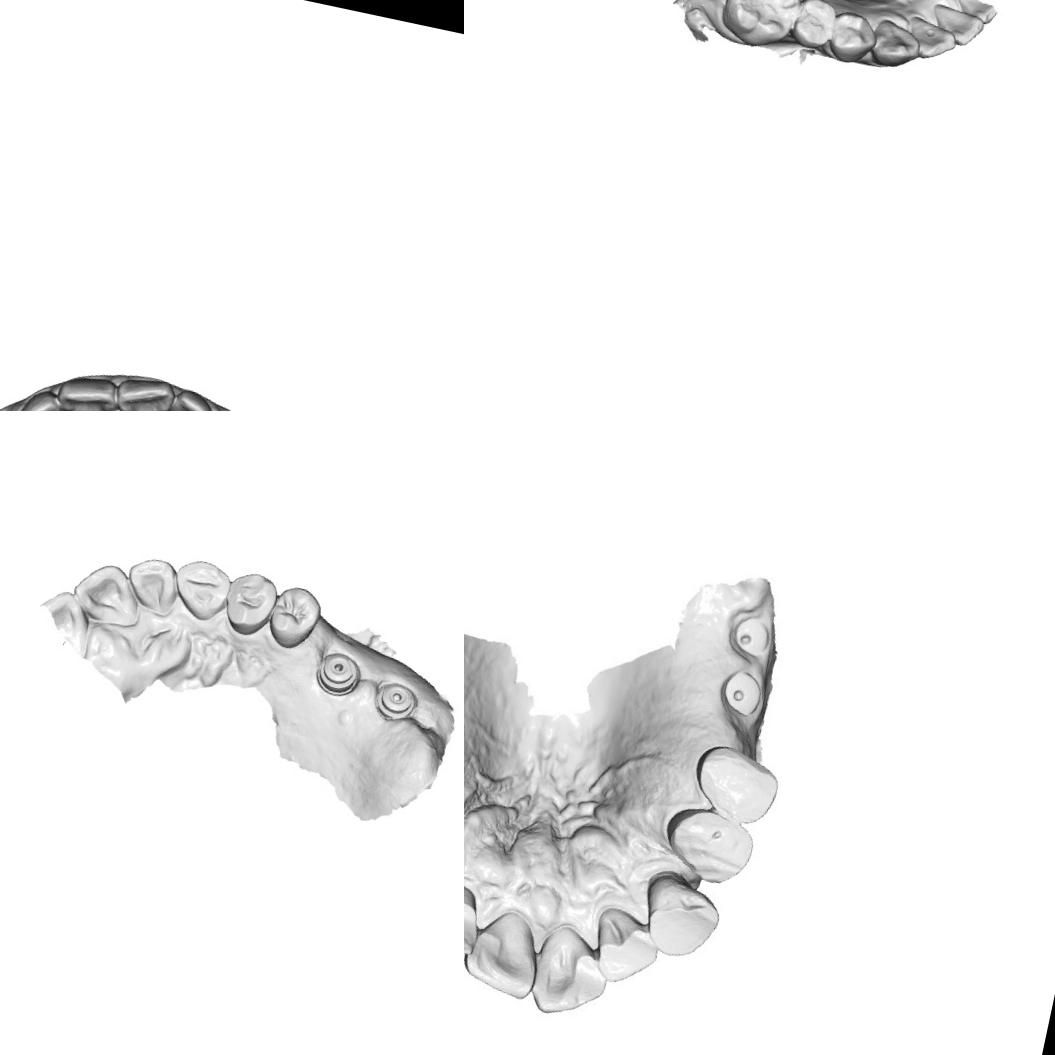canine: (635, 870, 729, 964), (168, 554, 236, 625), (866, 14, 926, 70)
implant: (706, 654, 782, 731), (724, 611, 777, 669), (311, 646, 366, 700), (368, 676, 423, 727)
incisor: (523, 914, 614, 1026), (464, 896, 553, 999), (584, 902, 666, 984), (67, 558, 146, 630), (464, 864, 504, 973), (120, 552, 184, 619), (924, 1, 988, 51), (51, 368, 120, 411), (903, 14, 961, 65), (107, 369, 177, 411), (13, 385, 72, 411), (164, 386, 220, 411), (948, 0, 1002, 25)
molar: (715, 0, 808, 56)
premolar: (658, 798, 769, 892), (685, 738, 791, 831), (218, 567, 282, 642), (264, 580, 327, 654), (825, 8, 881, 68), (789, 0, 840, 53)
